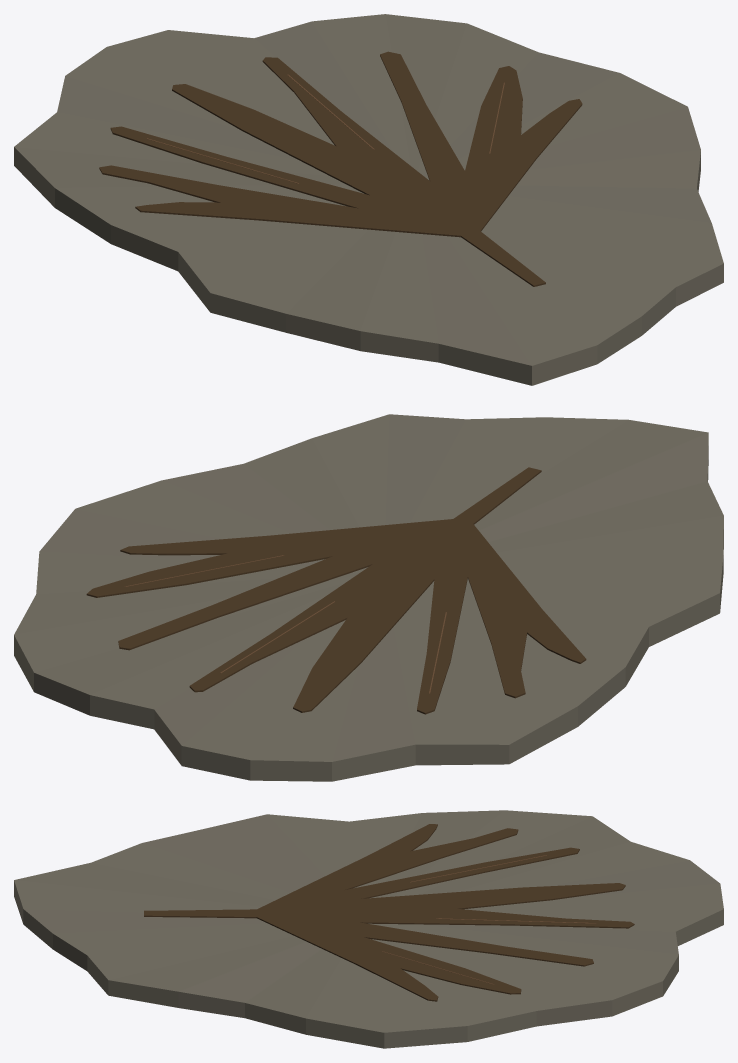
The picture shows the model from 3 angles, top to bottom: view 1: azimuth 30°, elevation 25°; view 2: azimuth 150°, elevation 25°; view 3: azimuth 270°, elevation 25°; orthographic projection. The views are drawn at different scales.
Parts seen in each view (by area): view 1: thin_irregular_original_shale_support, one_flat_deeply_divided_Baiera_leaf; view 2: thin_irregular_original_shale_support, one_flat_deeply_divided_Baiera_leaf; view 3: thin_irregular_original_shale_support, one_flat_deeply_divided_Baiera_leaf, subordinate_flat_vein_trace.
Part boxes in pixels (x1=…): thin_irregular_original_shale_support: x1=14, y1=14, x2=723, y2=385; one_flat_deeply_divided_Baiera_leaf: x1=99, y1=51, x2=582, y2=286; thin_irregular_original_shale_support: x1=14, y1=414, x2=723, y2=781; one_flat_deeply_divided_Baiera_leaf: x1=86, y1=467, x2=586, y2=714; thin_irregular_original_shale_support: x1=14, y1=810, x2=723, y2=1048; one_flat_deeply_divided_Baiera_leaf: x1=144, y1=824, x2=634, y2=1001; subordinate_flat_vein_trace: x1=382, y1=855, x2=596, y2=984.
Size of the model in its own units: 0.1141 by 0.00433 by 0.1541.
